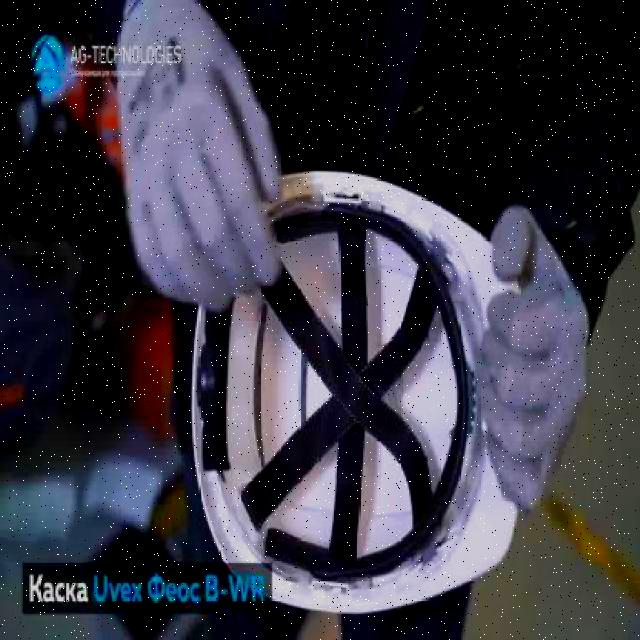Gloves: (114, 0, 284, 311), (472, 202, 591, 512)
Helmet: (190, 163, 526, 617)
